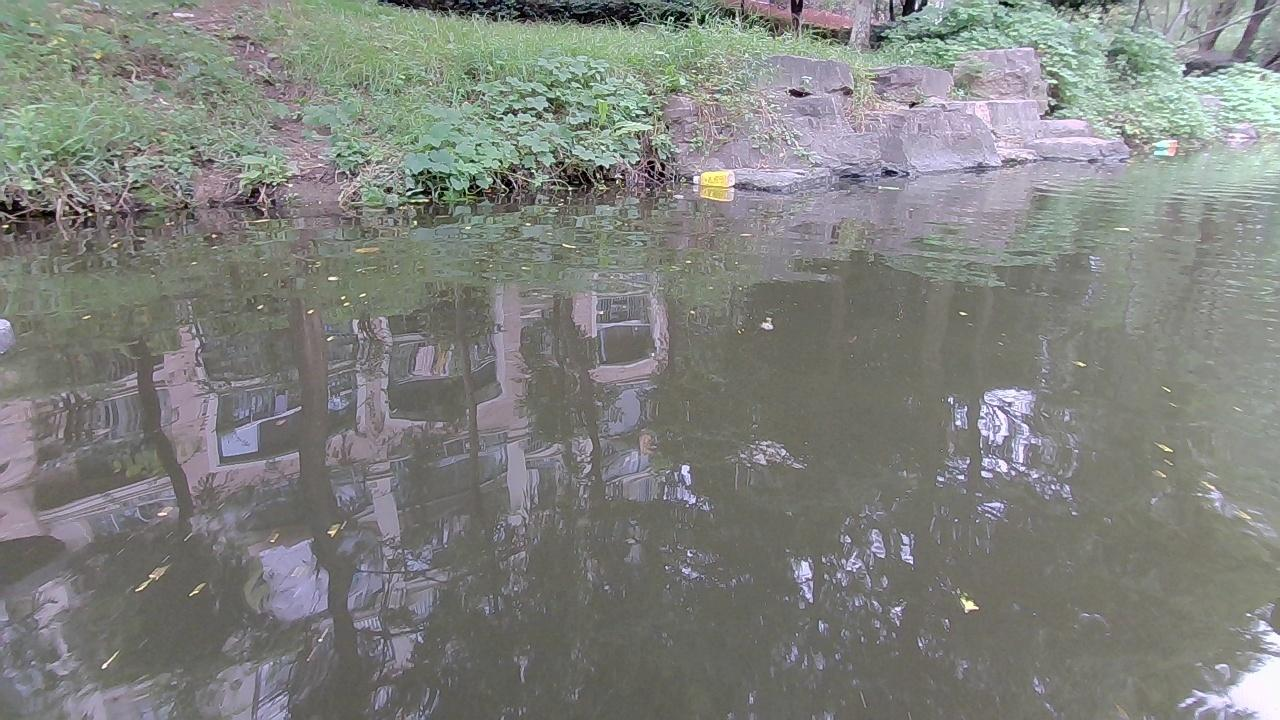bottle: (689, 170, 738, 189), (1160, 137, 1179, 151), (1149, 139, 1169, 152)
